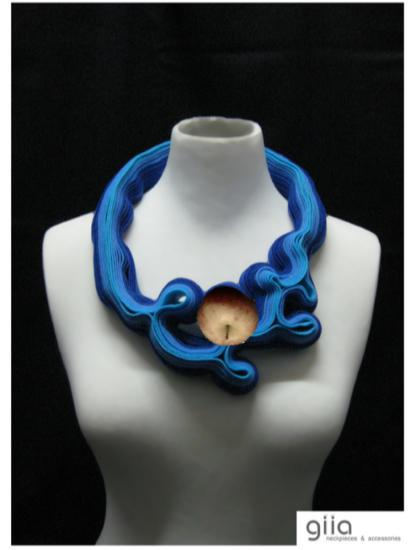Apple: (196, 284, 260, 348)
